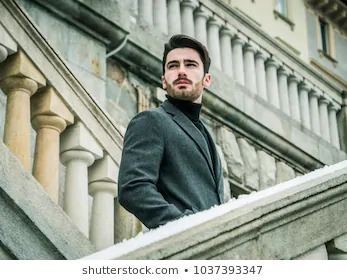F_M_suit jacket: (115, 97, 230, 231)
